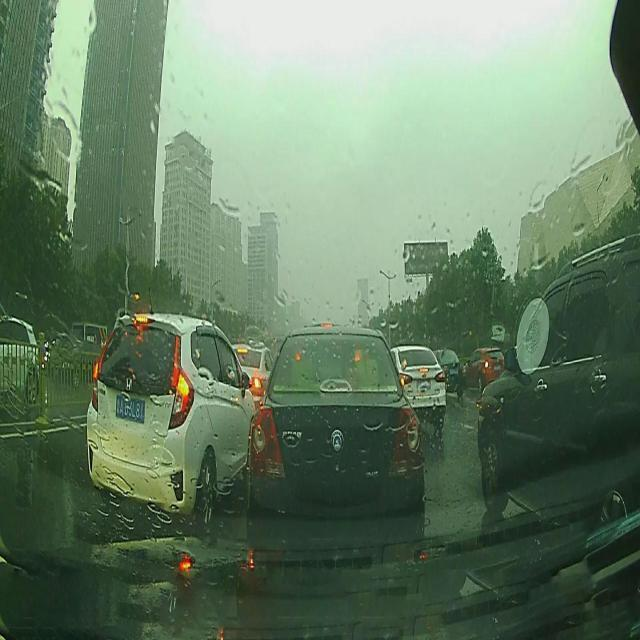car: (476, 235, 640, 512), (248, 324, 425, 574), (86, 312, 255, 530), (392, 346, 445, 428), (462, 346, 505, 390), (436, 348, 464, 404)
